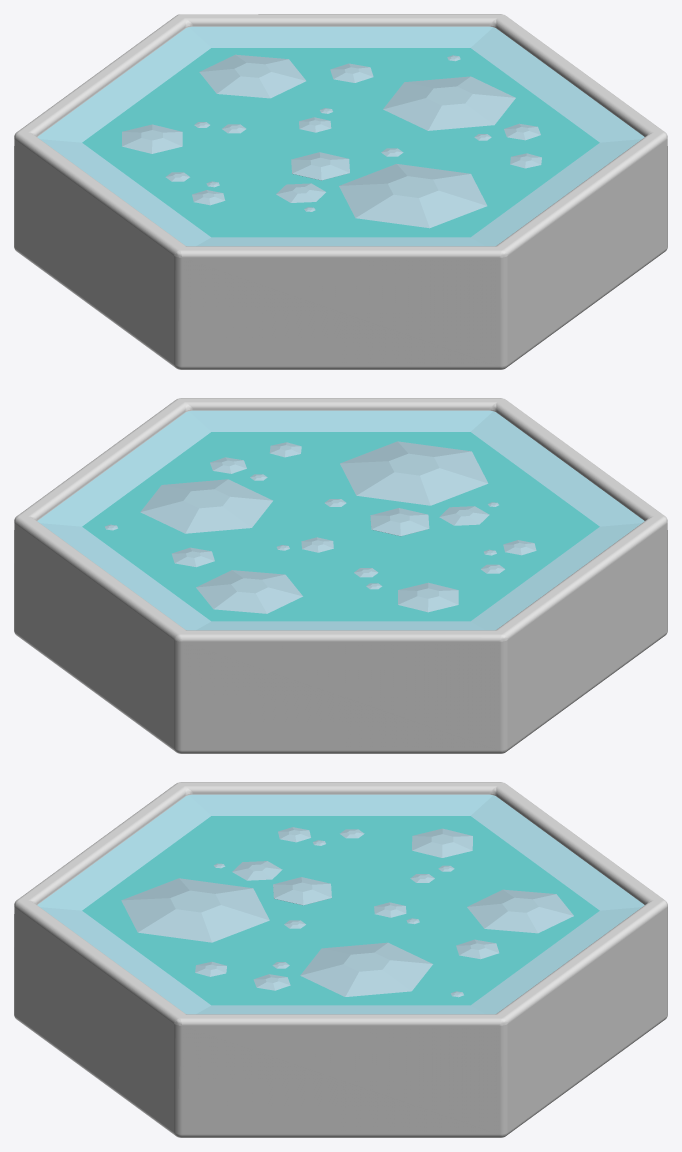
Rendered from ice_base.fbx.
3 renders of one model, top to bottom at view 1: azimuth 30°, elevation 25°; view 2: azimuth 150°, elevation 25°; view 3: azimuth 270°, elevation 25°, orthographic.
Visible parts, largest first — view 1: ice base, ice around, Cylinder.064; view 2: ice base, ice around, Cylinder.064; view 3: ice base, ice around, Cylinder.064.
Boxes of the visible parts, bbox=[...] form: ice base: bbox=[14, 14, 667, 369]; ice around: bbox=[37, 26, 644, 246]; Cylinder.064: bbox=[122, 54, 541, 228]; ice base: bbox=[14, 398, 667, 753]; ice around: bbox=[37, 410, 644, 630]; Cylinder.064: bbox=[105, 441, 536, 613]; ice base: bbox=[14, 782, 667, 1137]; ice around: bbox=[37, 794, 644, 1014]; Cylinder.064: bbox=[121, 827, 573, 997].
Bounding box in the file's own units: 866 × 200 × 996.
